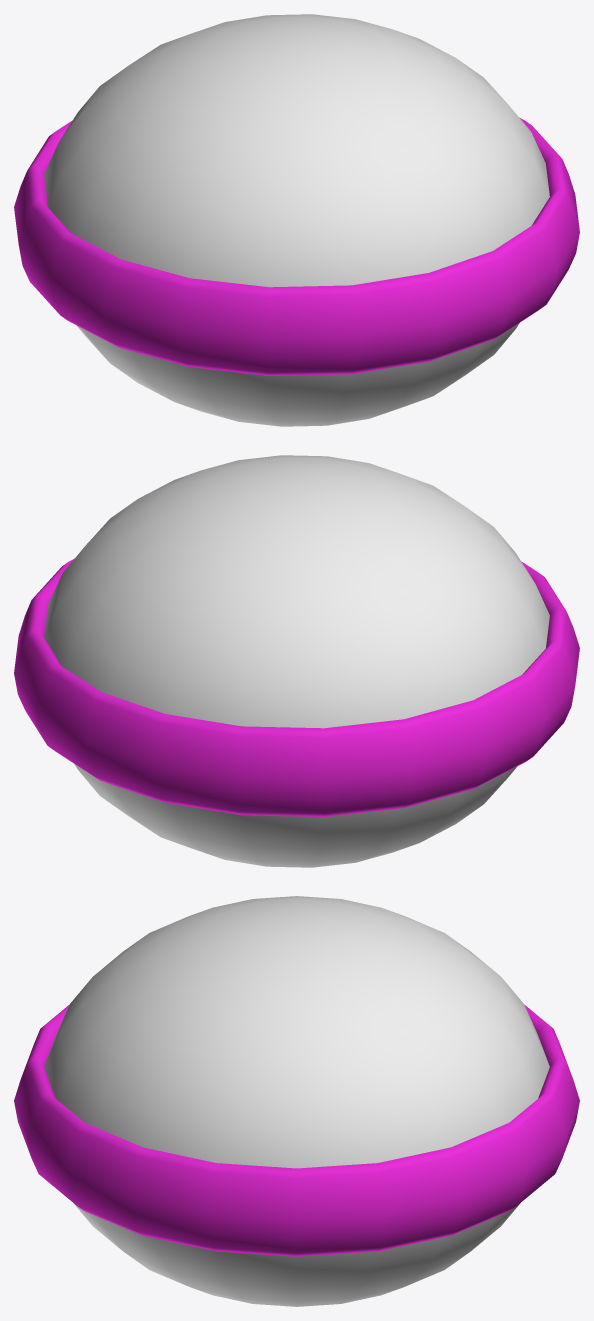
File: ExtraLife 2.fbx
The picture shows the model from 3 angles, top to bottom: view 1: azimuth 30°, elevation 25°; view 2: azimuth 150°, elevation 25°; view 3: azimuth 270°, elevation 25°; orthographic projection.
Visible parts, largest first — view 1: GlassSpeere.008, Outertorus.011; view 2: GlassSpeere.008, Outertorus.011; view 3: GlassSpeere.008, Outertorus.011.
Part boxes in pixels (x1,y1,x2,y2): GlassSpeere.008: [44, 14, 549, 426]; Outertorus.011: [14, 117, 579, 375]; GlassSpeere.008: [44, 455, 549, 867]; Outertorus.011: [14, 558, 579, 816]; GlassSpeere.008: [44, 896, 549, 1306]; Outertorus.011: [14, 1005, 579, 1256].
Bounding box in the file's own units: 260 × 176 × 260.
